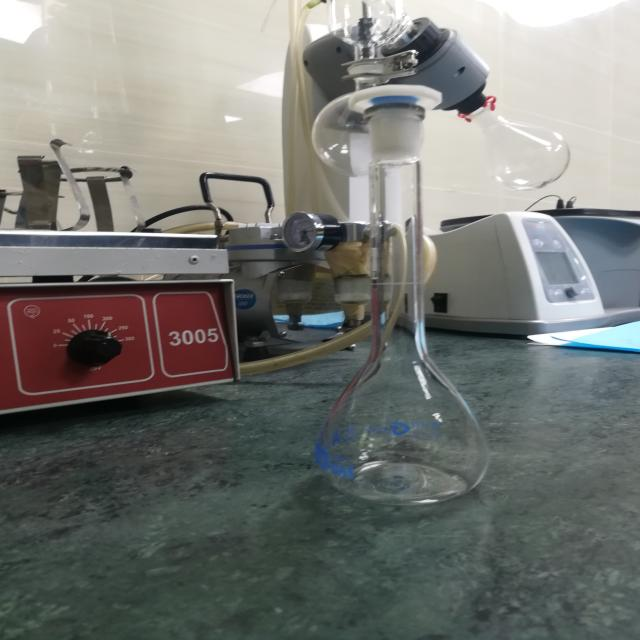Volumetric_Flask: (295, 48, 540, 530)
